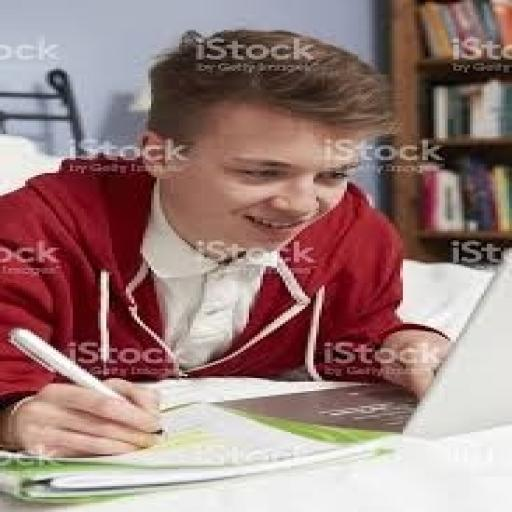using_laptop: (205, 236, 512, 512)
